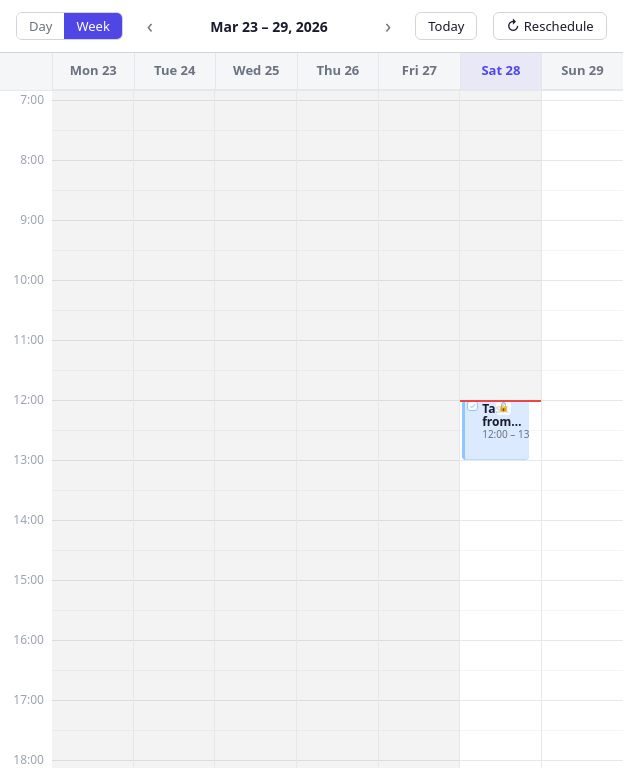
Test: CalendarView — chunk context menu › locks an auto chunk via the context menu
(page scrolled)
Right-click the button with class "chunk-block": (496, 430) left=462, top=400, right=529, bottom=460
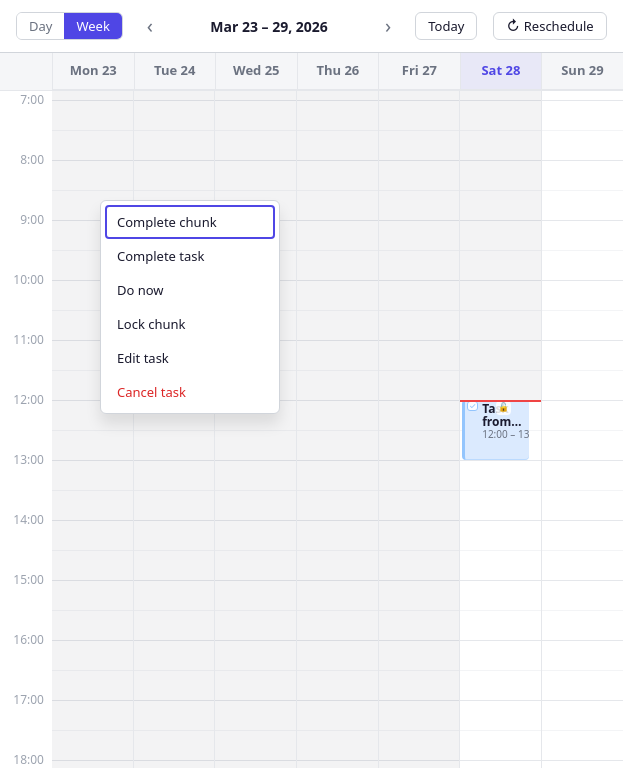
Now the menu is shown, box left=100, top=200, right=280, bottom=414
Now the menu item "Lock chunk" is shown
Click the menu item "Lock chunk": (190, 324) left=105, top=307, right=275, bottom=341
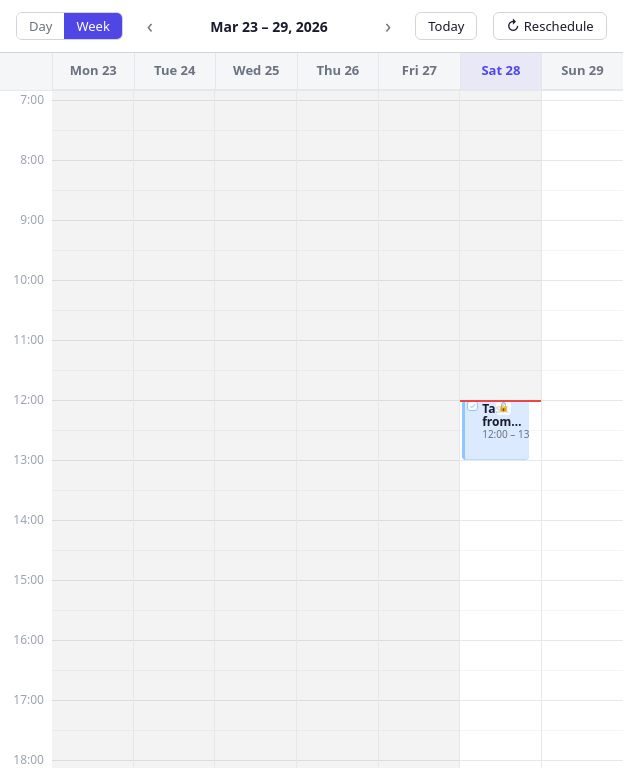
Now the menu is gone
